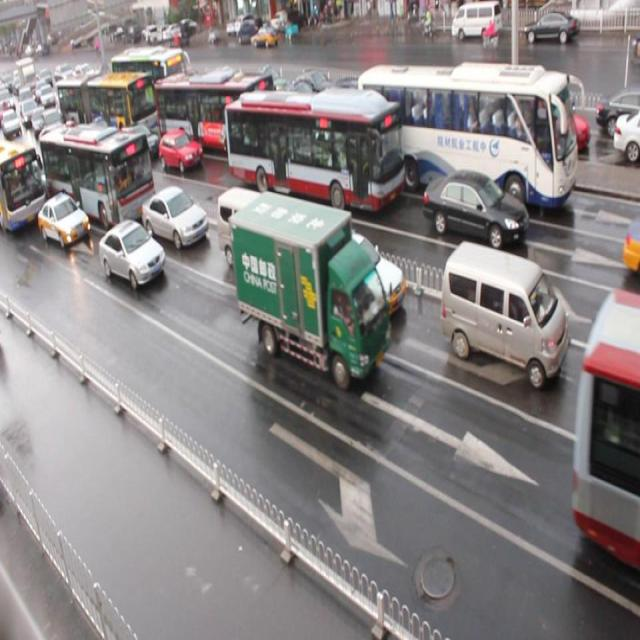bus: (232, 190, 390, 386)
car: (300, 228, 404, 321), (422, 168, 527, 249), (99, 219, 166, 289), (141, 185, 208, 250), (36, 187, 88, 243), (159, 128, 202, 172), (116, 123, 160, 164)
truck: (440, 240, 568, 386), (216, 186, 292, 276)
van: (357, 64, 577, 210), (224, 88, 403, 212), (571, 286, 640, 574), (38, 121, 156, 232), (154, 70, 274, 160), (58, 71, 158, 132), (1, 134, 46, 226)
